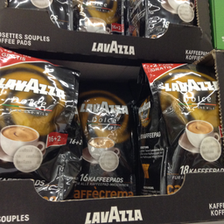coffee: (1, 47, 83, 200), (134, 62, 222, 200), (75, 77, 134, 196)
